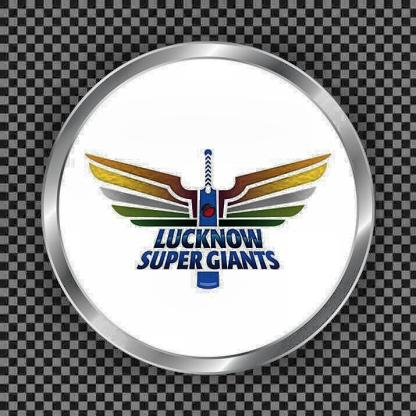Lucknow Super Giants: (86, 142, 331, 290)
